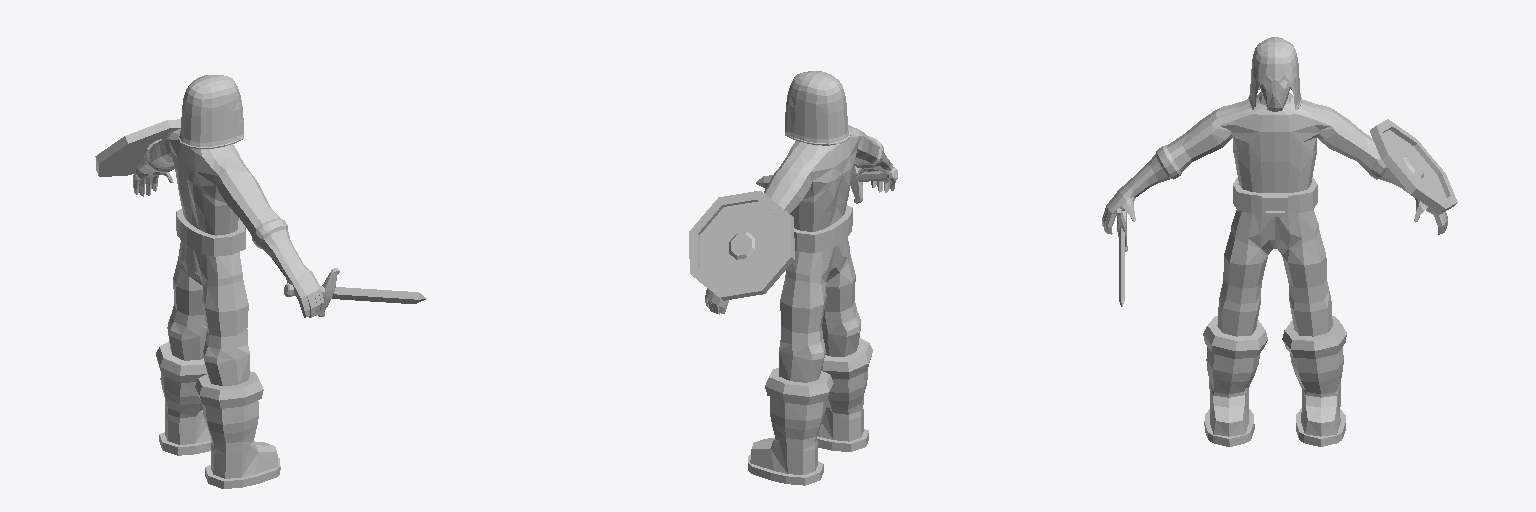
The model's file is PiezaBlanca.obj.
3 views of the same model, side by side, from view 1: azimuth 30°, elevation 25°; view 2: azimuth 150°, elevation 25°; view 3: azimuth 270°, elevation 25° (orthographic).
Visible parts, largest first — view 1: PiezaBlanca; view 2: PiezaBlanca; view 3: PiezaBlanca.
Part boxes in pixels (x1,y1,x2,y2): PiezaBlanca: (95,75,426,488); PiezaBlanca: (689,71,897,485); PiezaBlanca: (1102,37,1457,446).
Size of the model in its own units: 1.06 by 2.1 by 1.77.